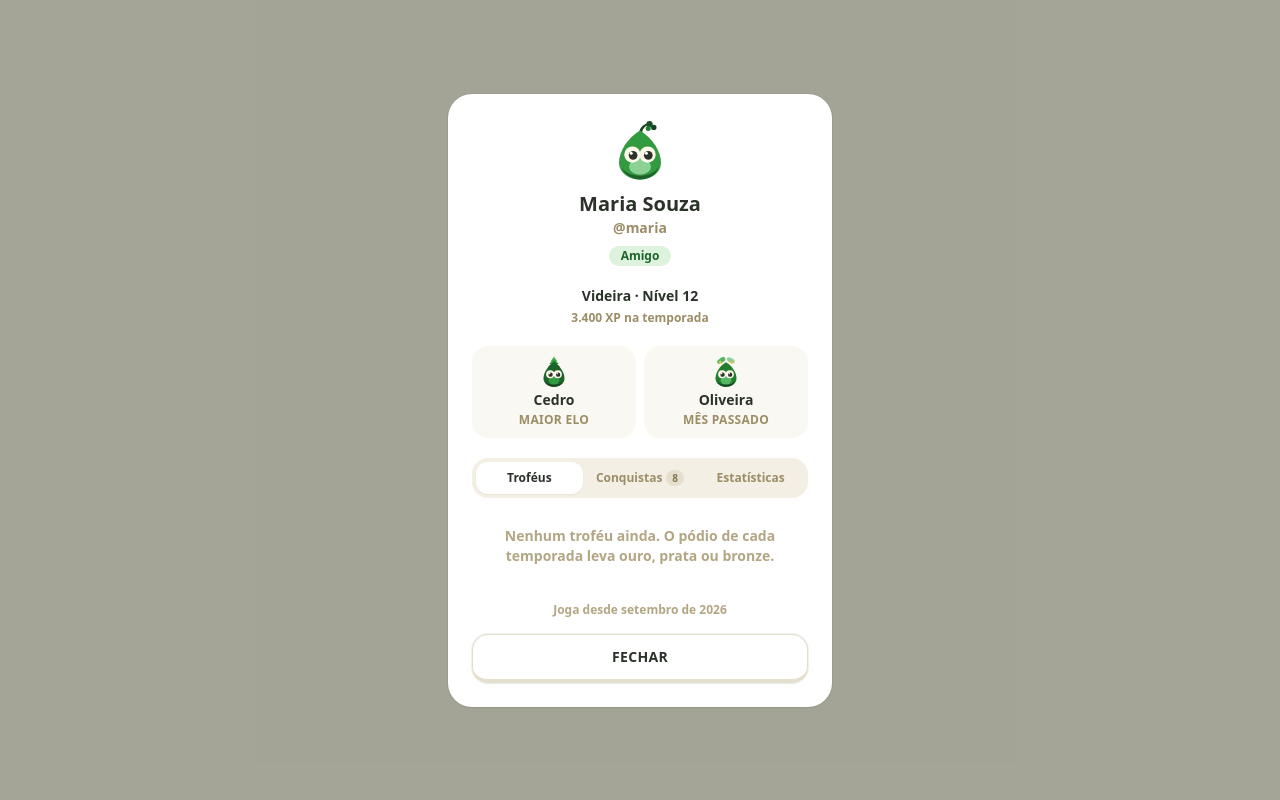
Test case: PlayerProfileModal › shows the player’s level, stats and details
Expected: the text "@maria" is shown, [613,218,667,236]
Expected: the text "Amigo" is shown, [609,246,671,266]
Click the tab "Estatísticas": (751,478) [697,462,804,494]
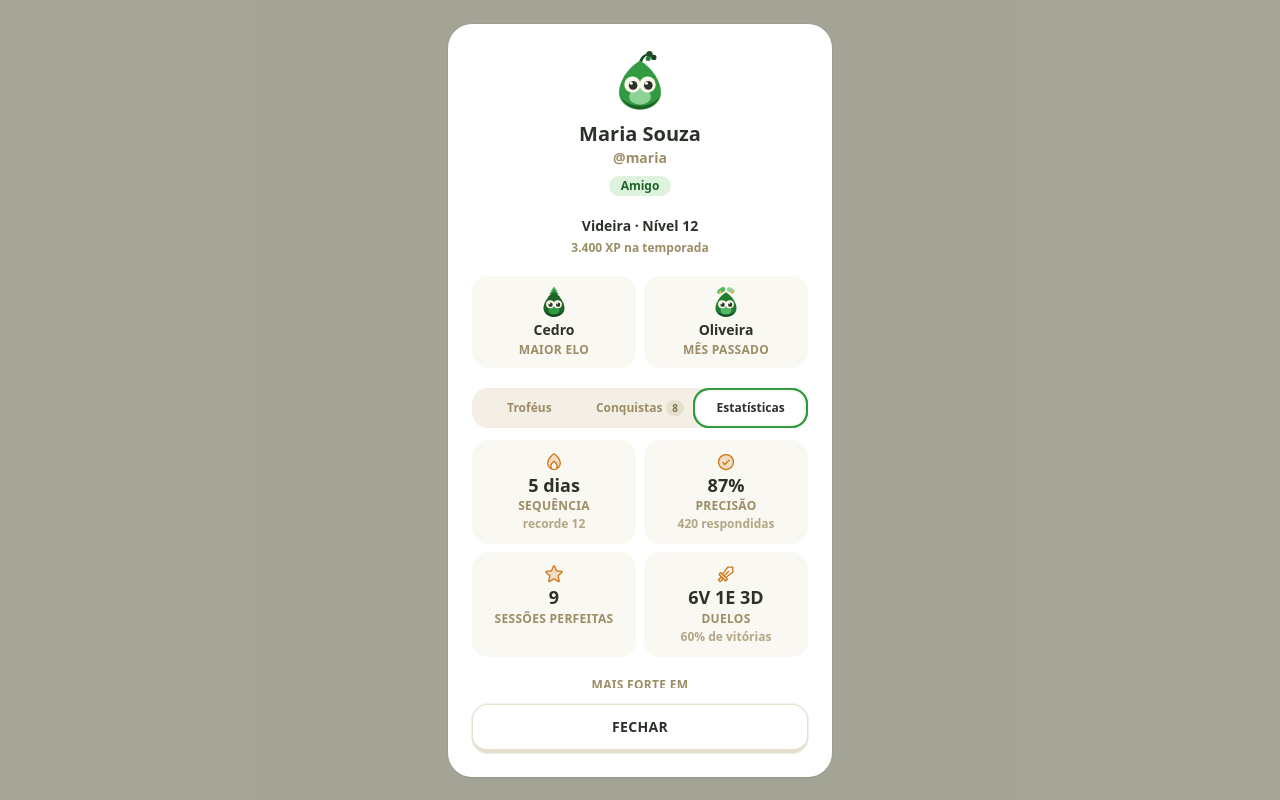
Now the text "5 dias" is shown, box [528,474,580,496]
Now the text "recorde 12" is shown, box [523,516,585,532]
Now the text "87%" is shown, box [708,474,744,496]
Click the tab "Conquistas 8": (640,408) [587,392,693,424]
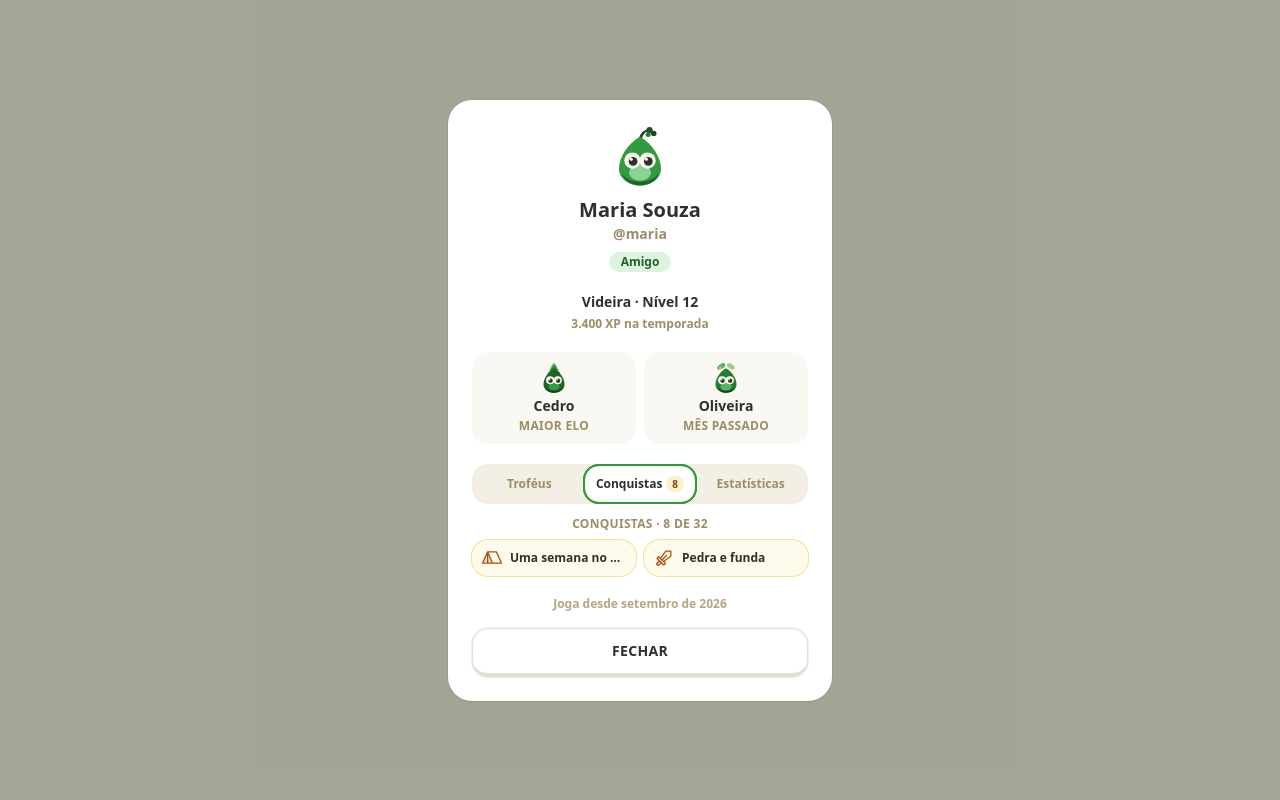
Now the heading "Conquistas · 8 de 32" is shown, box [572,514,708,532]
Now the text "Pedra e funda" is shown, box [682,550,765,566]
